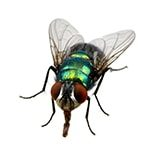green bottles fly: (10, 12, 139, 143)
